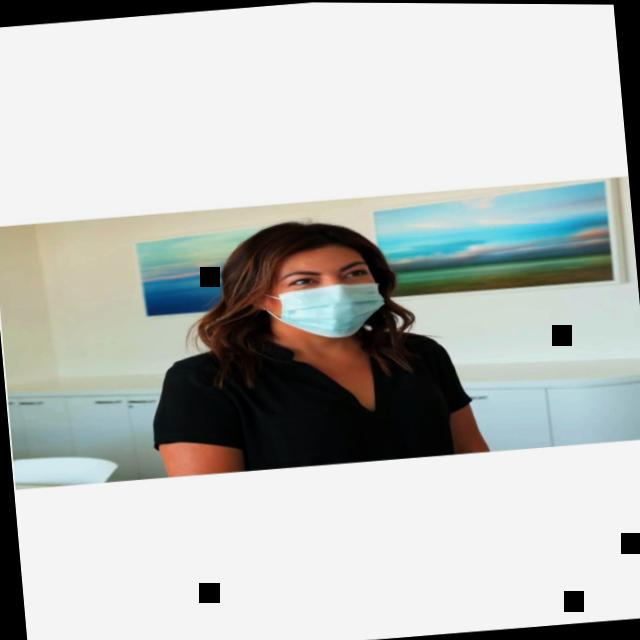Mask: (252, 231, 402, 344)
